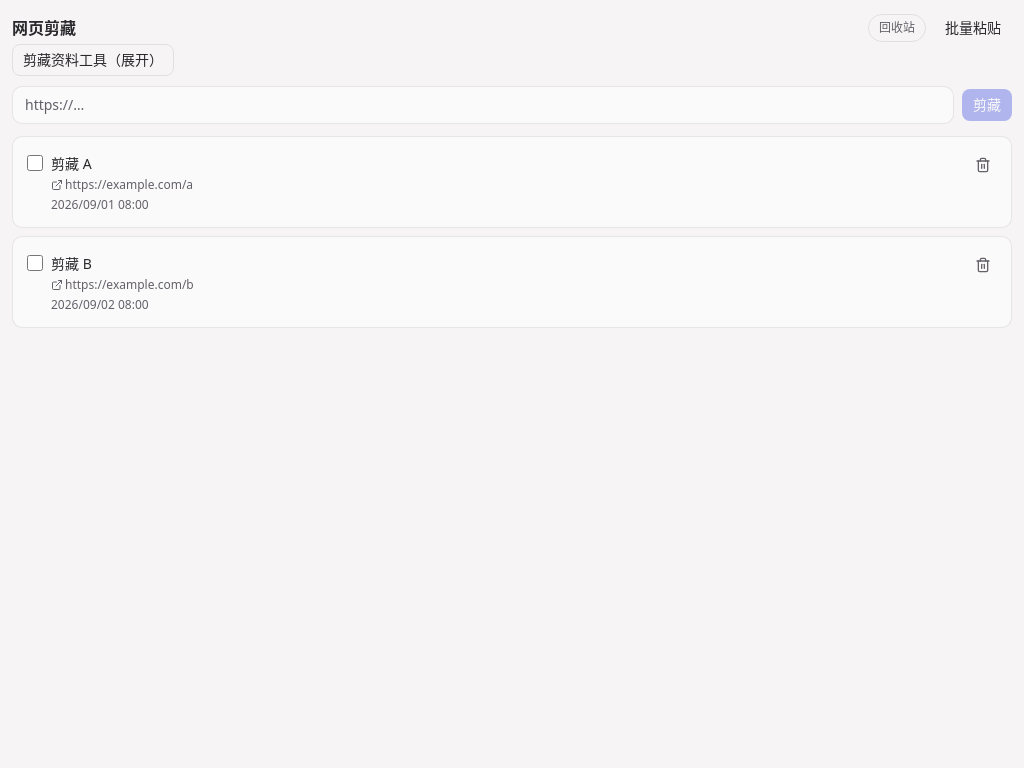
Test: F081/F087 ClipsPage 多选批量操作 › F087: 勾选一条→检查链接→只带该 ref 且不改写 URL
Expected: the button "剪藏 B" is shown, [51,254,92,274]
What coordinates should you click on to do the following:
click the checkbox named "选择剪藏：剪藏 B"
I would click on:
 (35, 263)
Its box is [27,255,43,271].
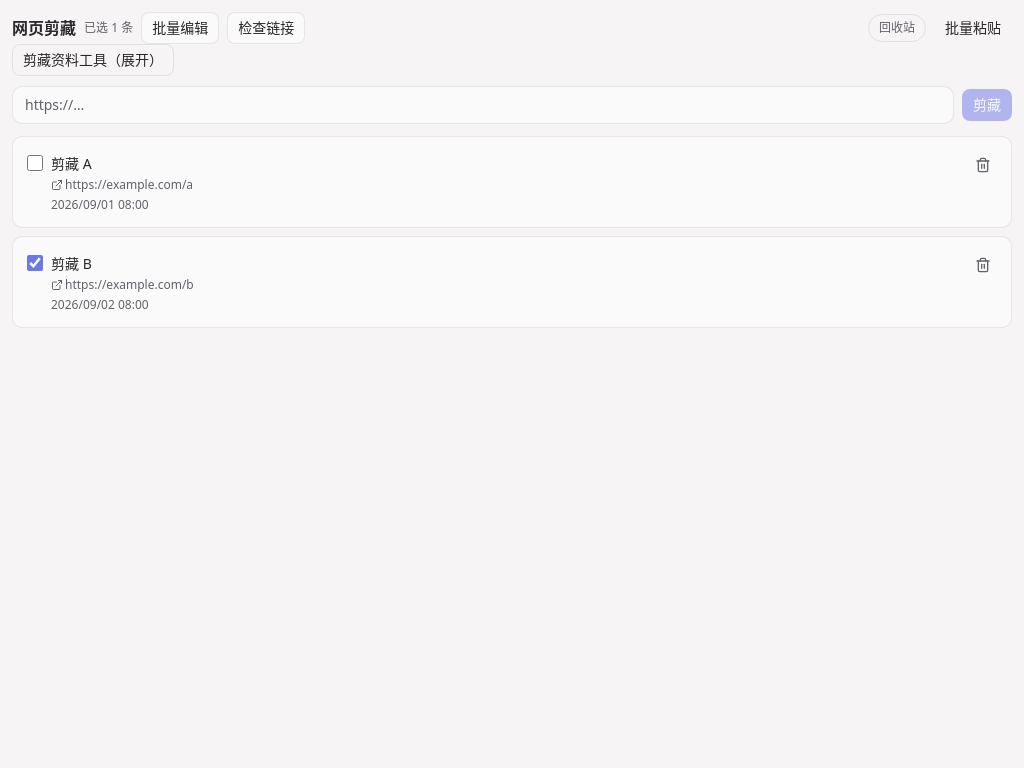
What coordinates should you click on to do the following:
click the button "检查链接"
I would click on:
 (266, 28)
Its box is [227,12,305,44].
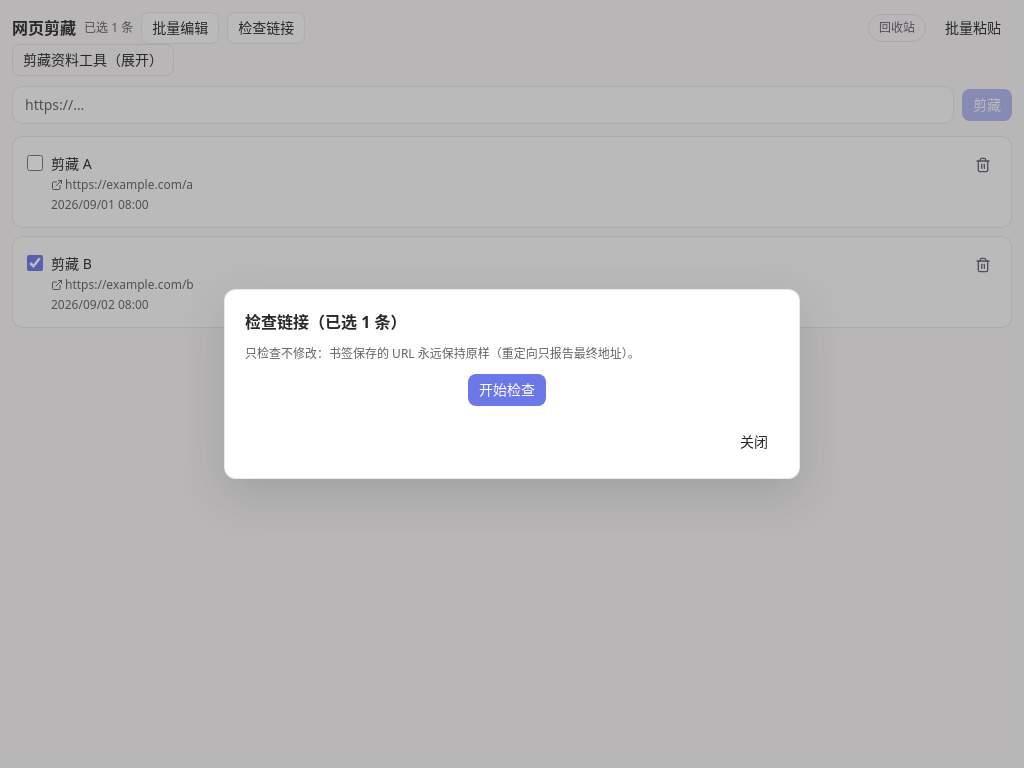
What coordinates should you click on to do the following:
click the button "开始检查"
I would click on:
 (507, 390)
Its box is [468,374,546,406].
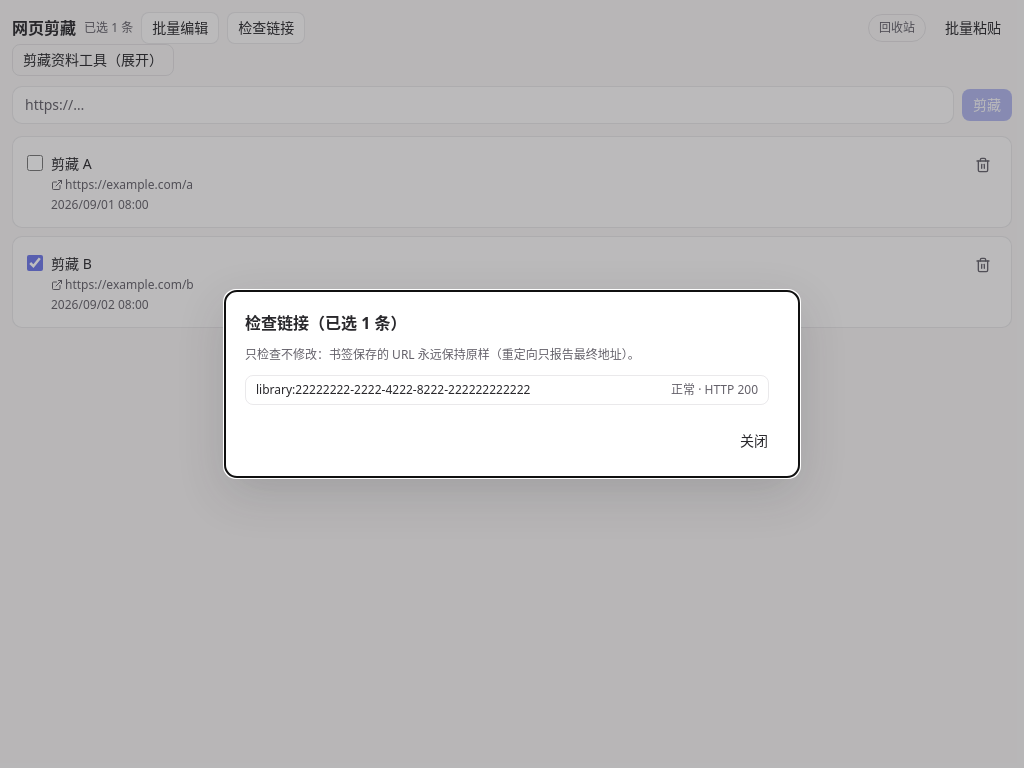
Expected: the text "正常 · HTTP 200" is shown, [671,382,758,398]
